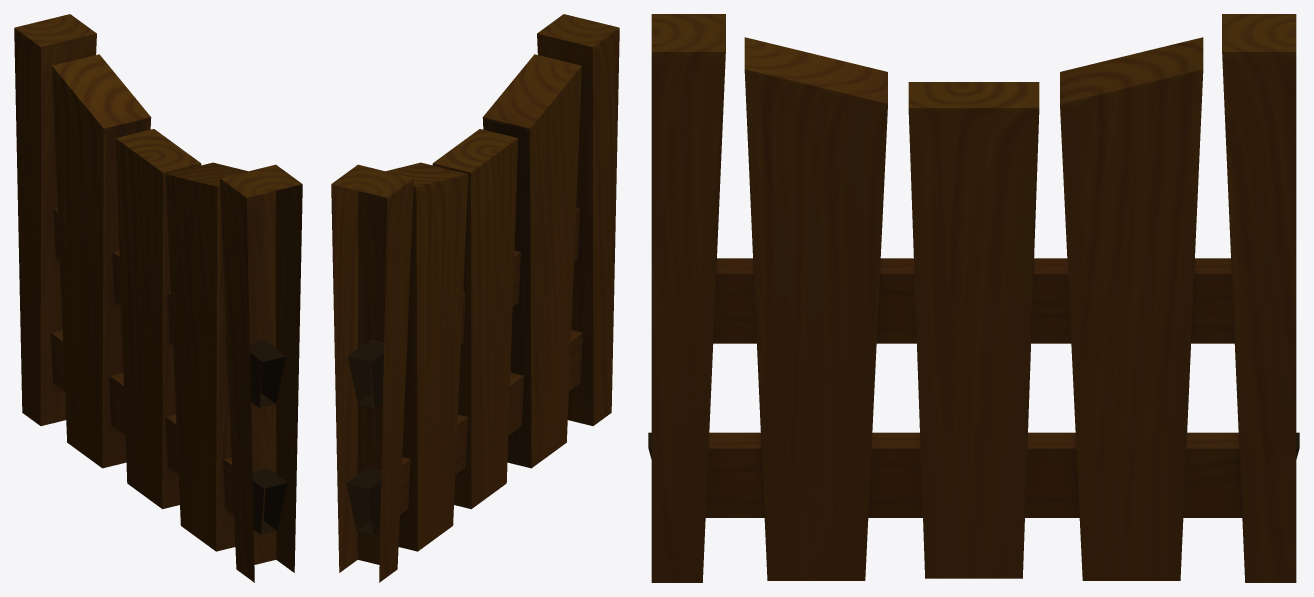
The model's file is fence-middle.fbx.
3 renders of one model, left to right at view 1: azimuth 30°, elevation 25°; view 2: azimuth 150°, elevation 25°; view 3: azimuth 270°, elevation 25°, orthographic. The views are drawn at different scales.
Visible parts, largest first — view 1: orta-parca; view 2: orta-parca; view 3: orta-parca.
Part boxes in pixels (box(x1,y1,x2,y2)): orta-parca: box(14, 14, 302, 582); orta-parca: box(331, 14, 619, 582); orta-parca: box(648, 14, 1299, 582).
Bounding box in the file's own units: 696 × 4592 × 5049.
1 material, 1 textured.
